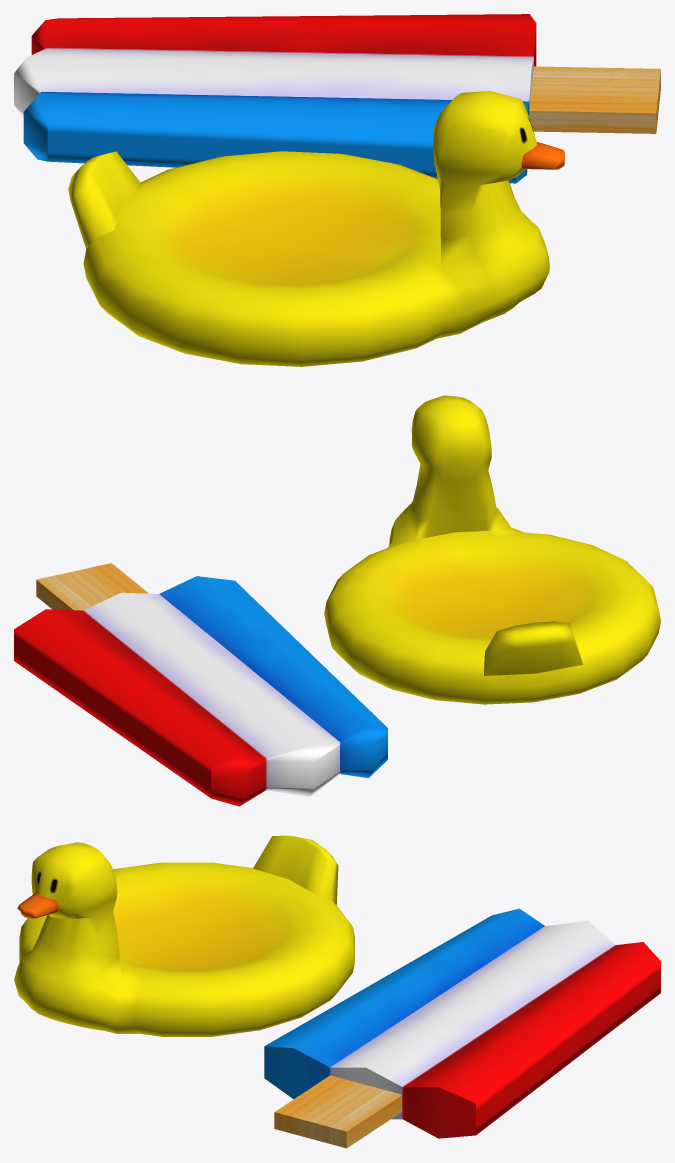
The model's file is Floaties.fbx.
3 renders of one model, top to bottom at view 1: azimuth 30°, elevation 25°; view 2: azimuth 150°, elevation 25°; view 3: azimuth 270°, elevation 25°, orthographic. The views are drawn at different scales.
Visible parts, largest first — view 1: duck1, popsicle; view 2: duck1, popsicle; view 3: popsicle, duck1.
Part boxes in pixels (x1,y1,x2,y2): duck1: (68, 91, 564, 366); popsicle: (14, 14, 660, 183); duck1: (324, 395, 660, 704); popsicle: (14, 563, 387, 806); popsicle: (264, 908, 660, 1148); duck1: (14, 835, 354, 1036).
Size of the model in its own units: 421 by 139 by 449.
